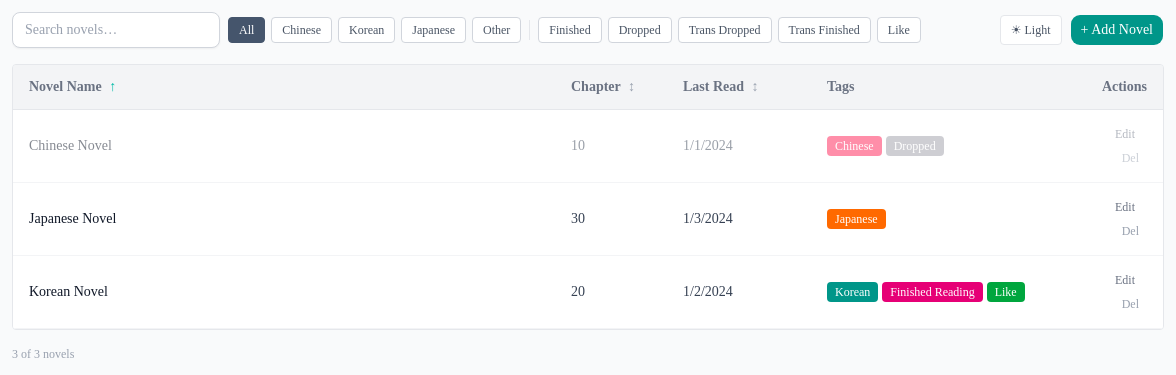
Test: Clear all filters › clicking Clear resets all filters and shows all novels
Click the button "Chinese" at [302, 30], box [271,17,332,43]
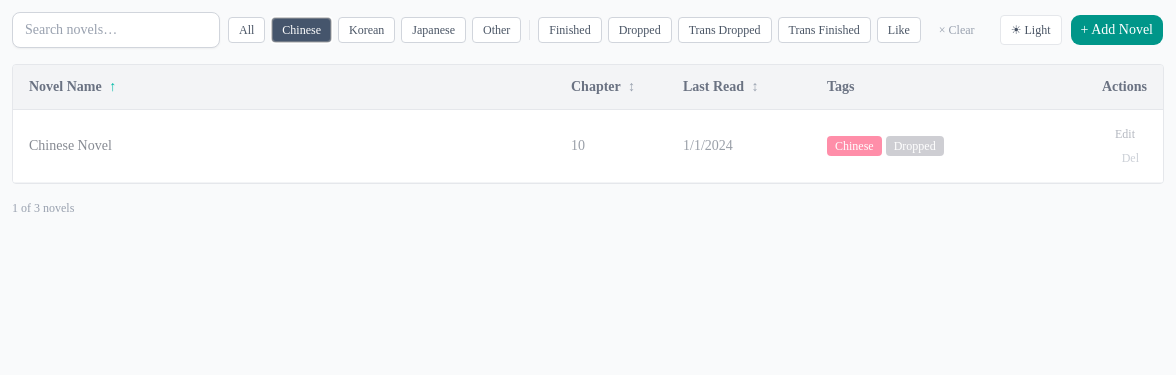
Click the button "Finished" at [570, 30], box [538,17,602,43]
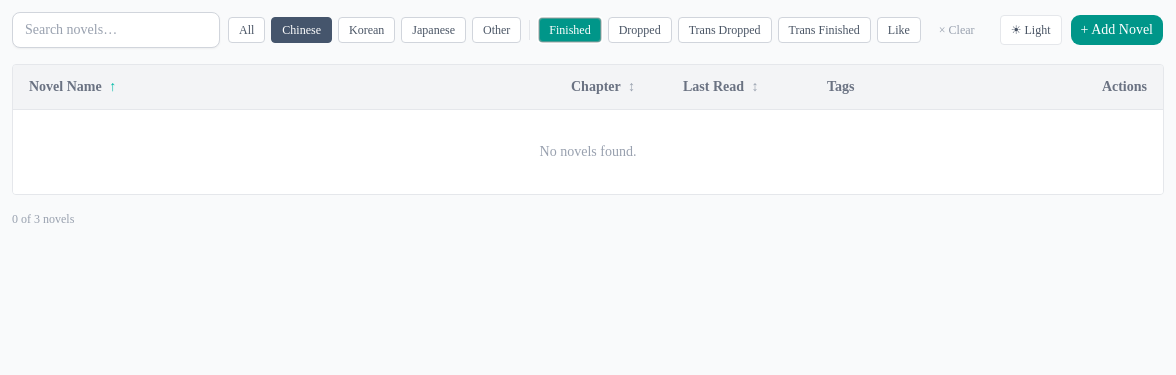
Click the button "× Clear" at [957, 30], box [929,18,985,42]
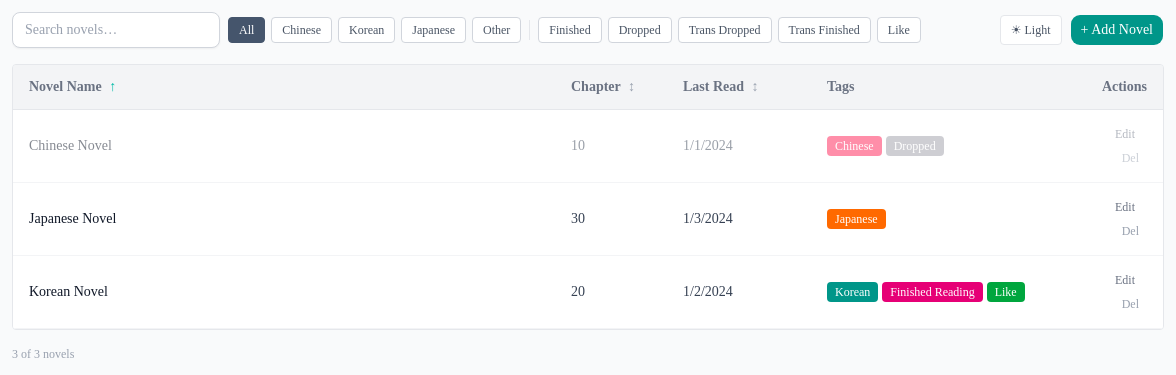
Check: the button "Clear" is gone
